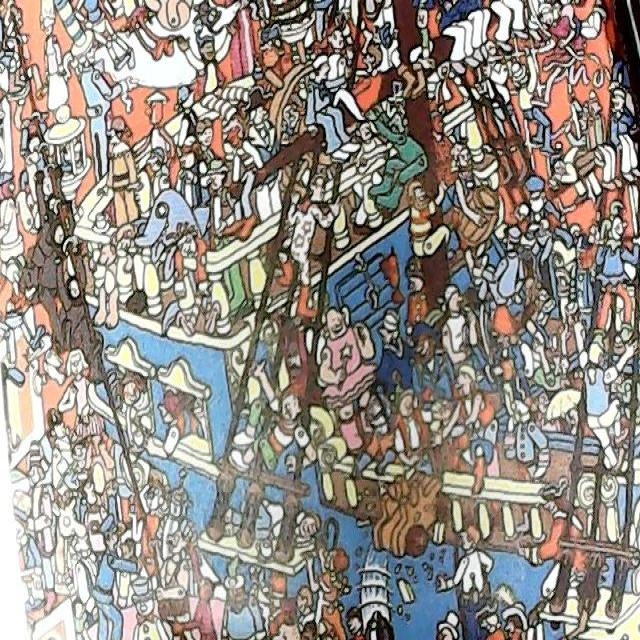waldo: (68, 429, 88, 475)
